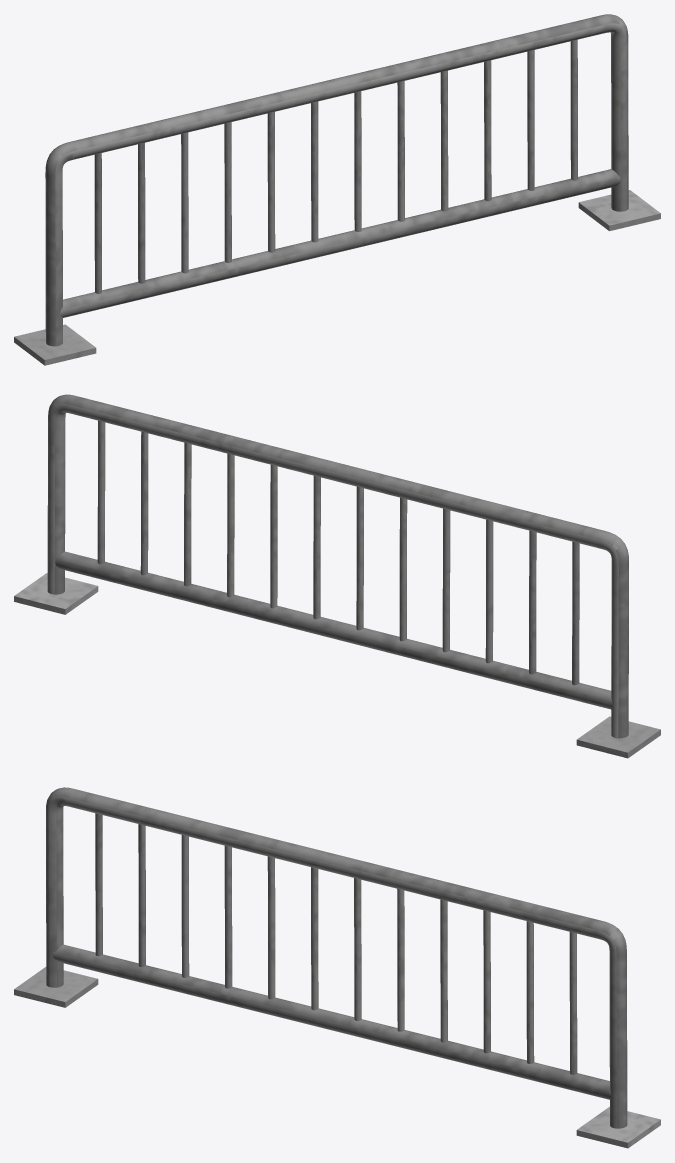
The model's file is CrowdControl.fbx.
3 renders of one model, top to bottom at view 1: azimuth 30°, elevation 25°; view 2: azimuth 150°, elevation 25°; view 3: azimuth 330°, elevation 25°, orthographic.
Parts seen in each view (by area): view 1: CrowdControl; view 2: CrowdControl; view 3: CrowdControl.
Boxes of the visible parts, box(x1,y1,x2,y2) form: CrowdControl: box(14, 14, 660, 365); CrowdControl: box(14, 394, 660, 758); CrowdControl: box(14, 787, 660, 1148).
Size of the model in its own units: 285 by 90.53 by 29.8.
